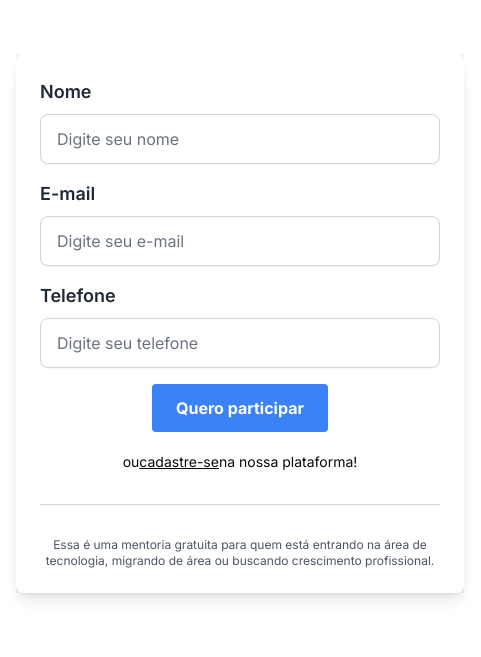
Test: <MentoringPage /> › Should display error messages after invalid email submission
Click the button with test id "button-submit" at (240, 408), box [152,384,328,432]
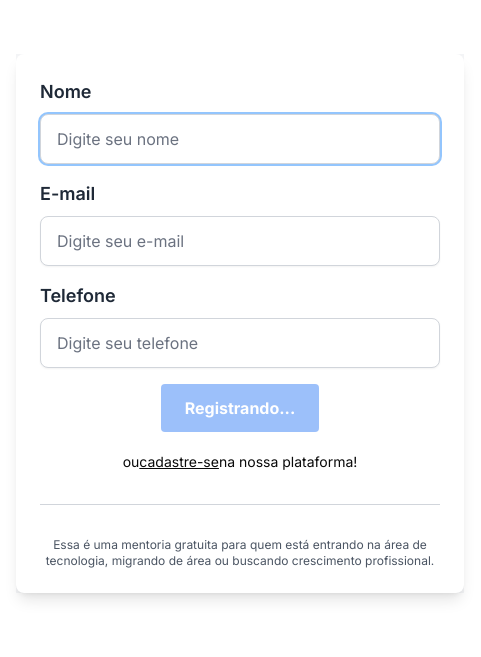
expect the form with test id "form-mentoring" is shown: met, box [40,78,440,432]
Type "johndoe@example.com" into the field with id "email" at (240, 240), box [40,216,440,266]
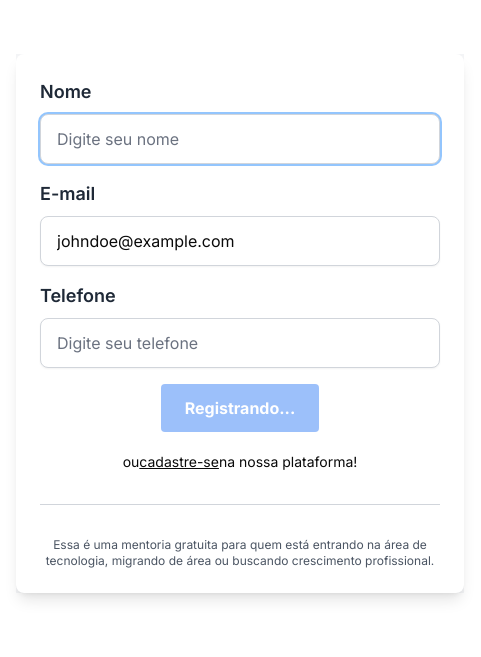
Click the button with test id "button-submit" at (240, 408), box [161,384,319,432]
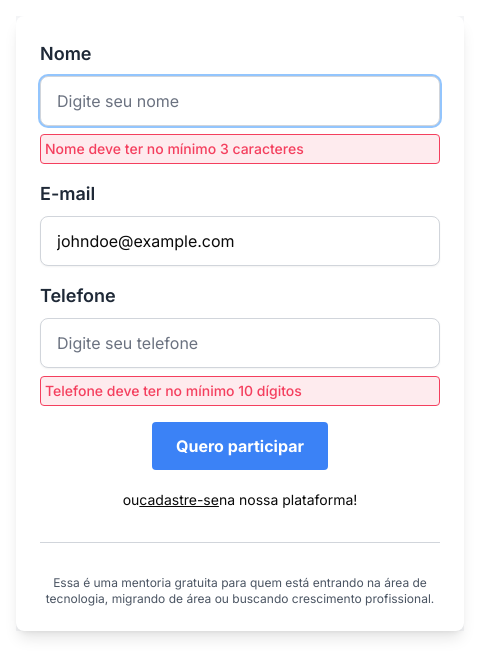
expect the form with test id "form-mentoring" is shown: met, box [40,40,440,470]
expect the number of elements with test id "error-message" is 2: met, box [45,140,304,156]; [45,382,302,398]
